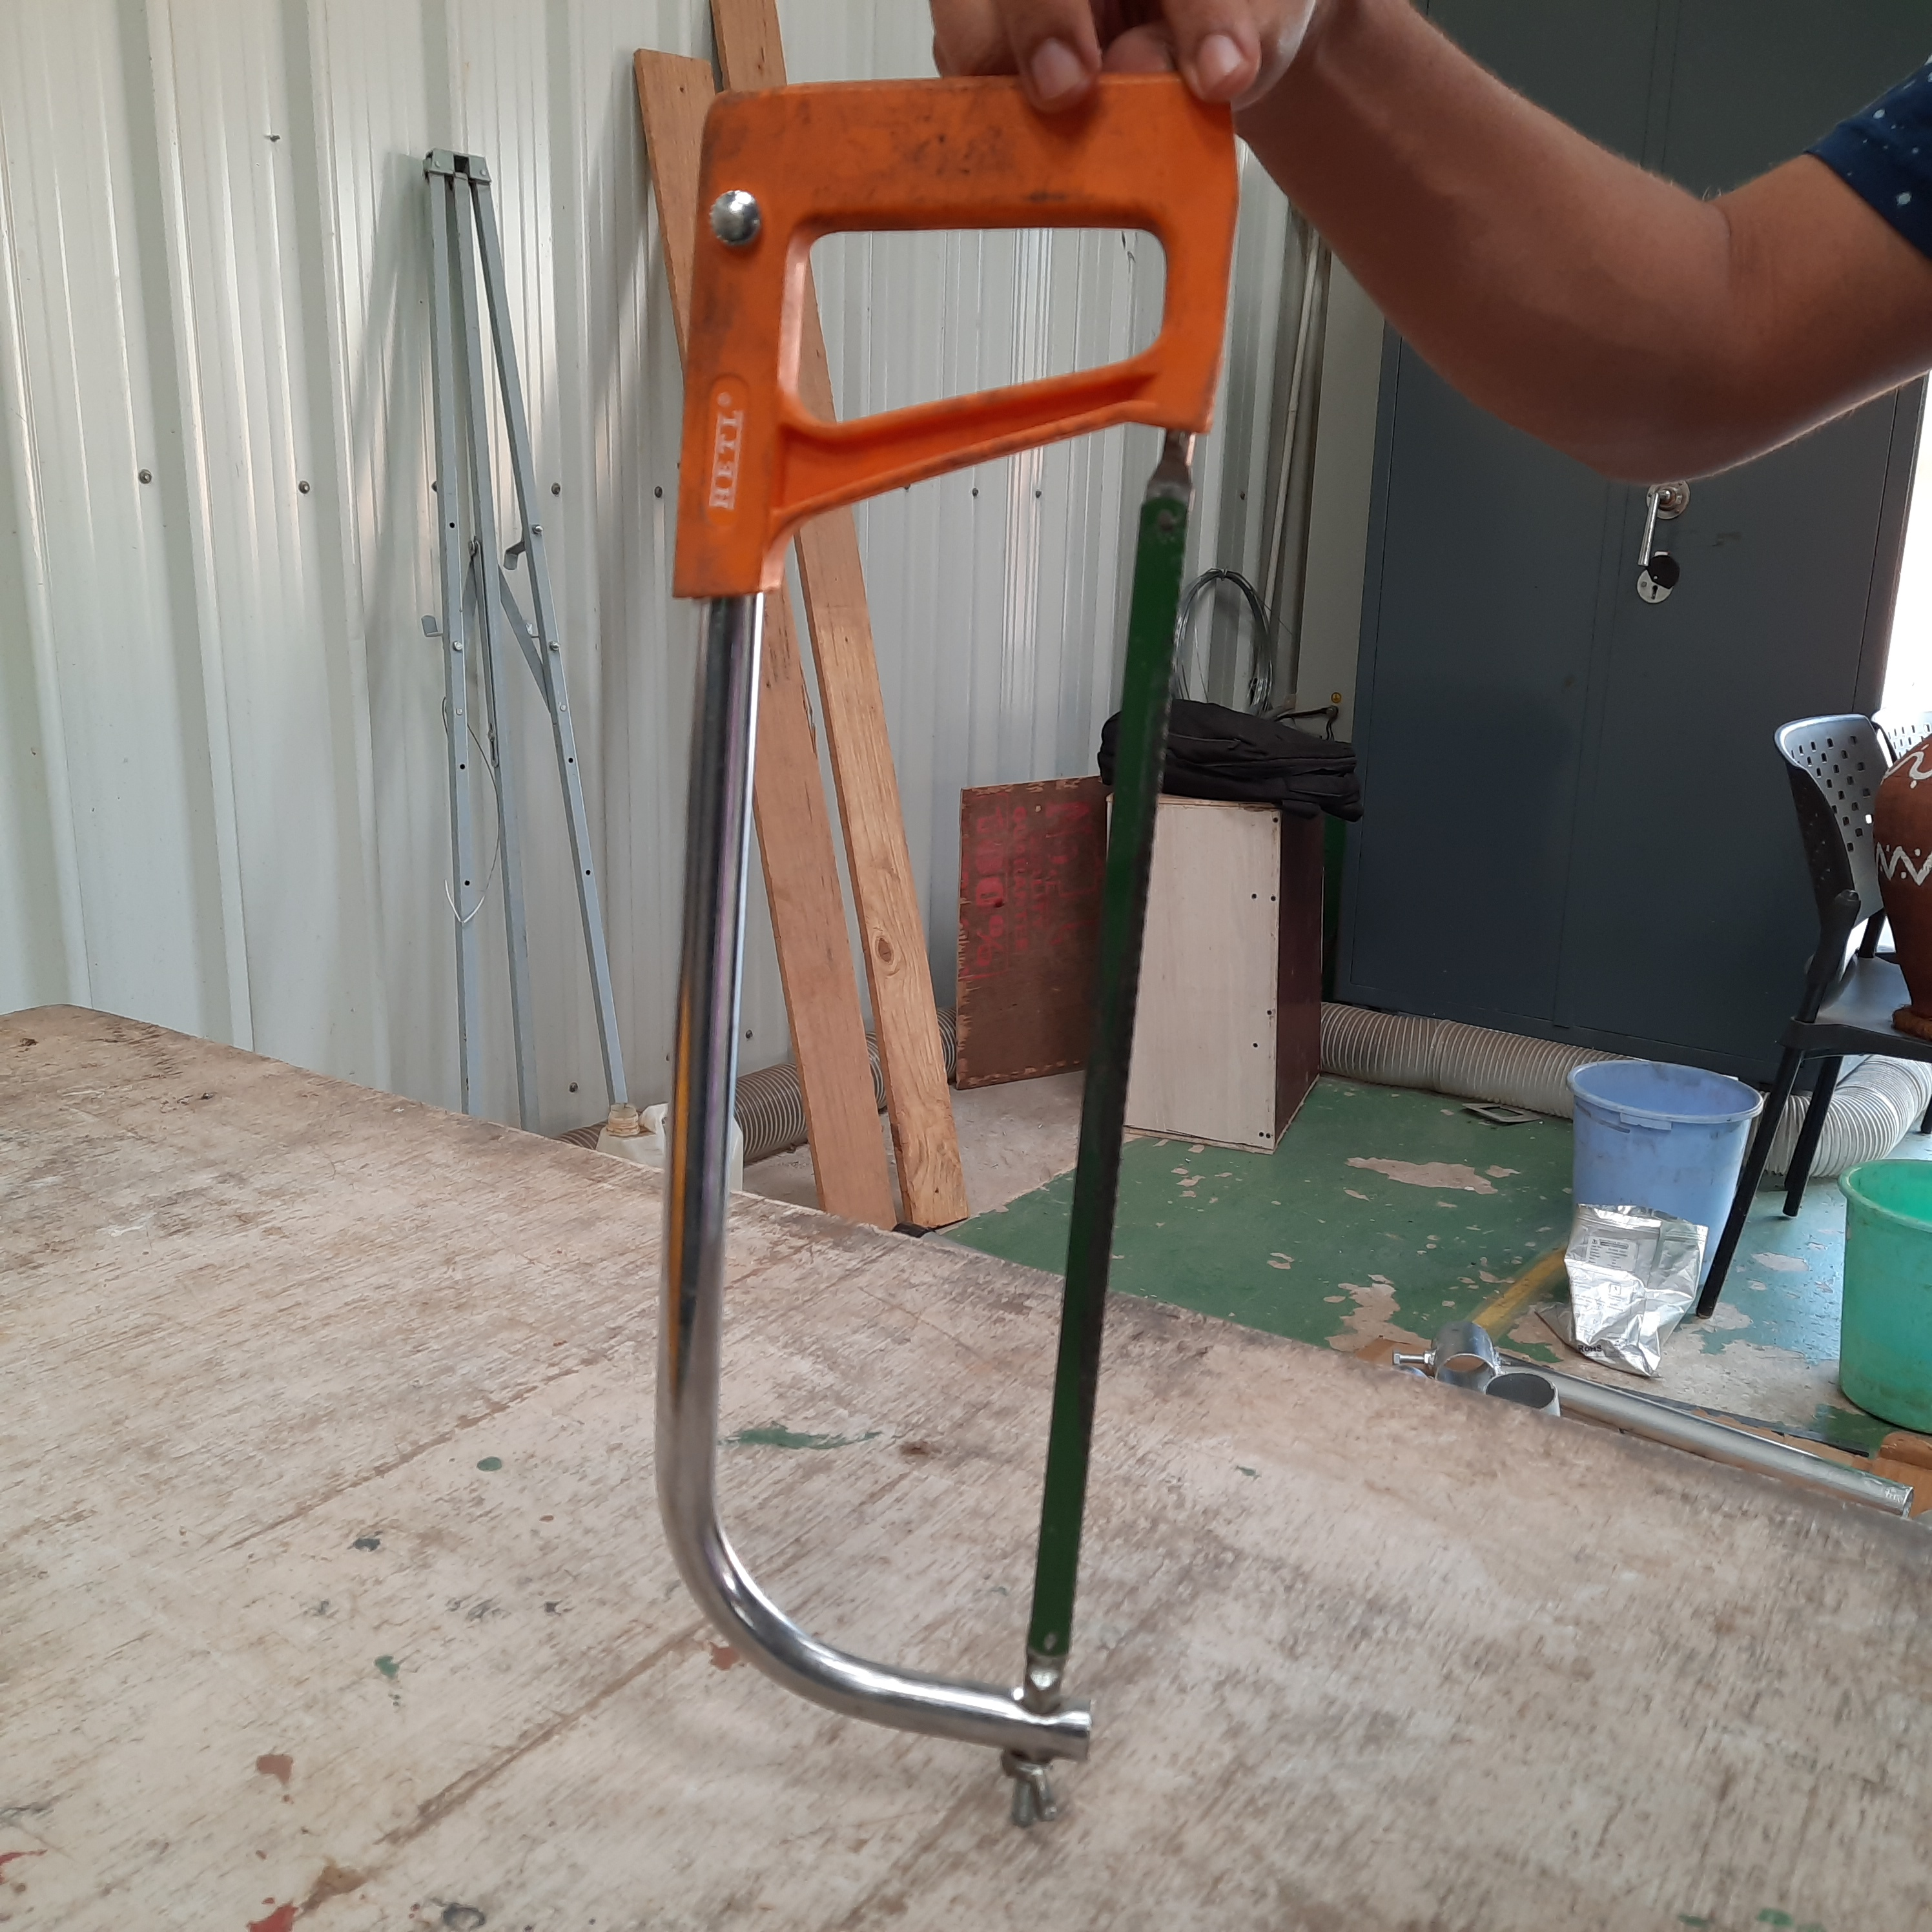Hexaframe: (669, 69, 1178, 1783)
